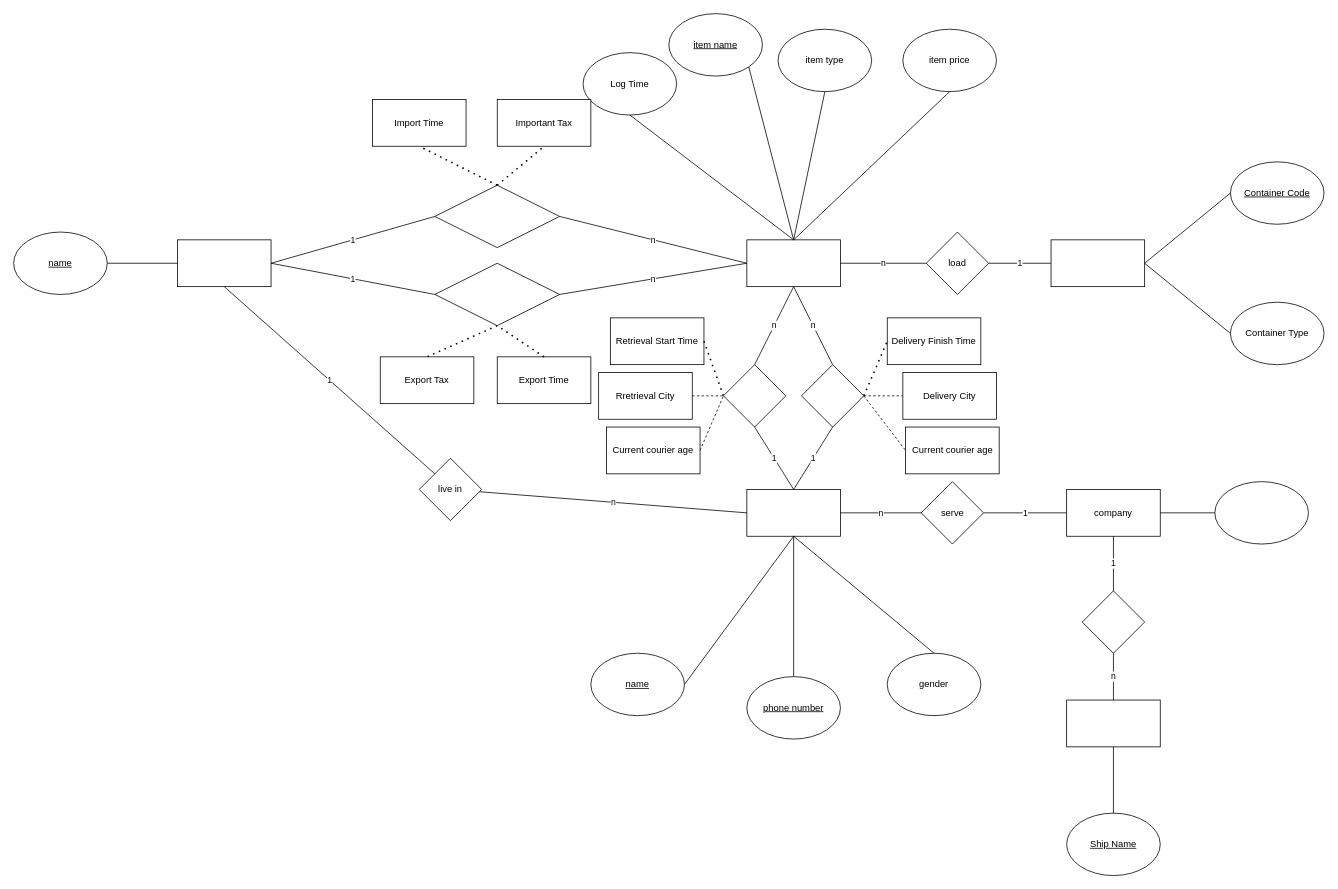
Image size: 1338x889. Some labels were removed from this diagram. The shapes that lost their labels are listed below. From the top down, each one's box as (x1, y1, x2, y2) in pixels, then its label:
(434, 184, 560, 248): import in
(177, 239, 271, 287): City
(746, 239, 840, 287): item
(1050, 239, 1145, 287): containers
(434, 262, 560, 326): export in
(723, 364, 786, 427): retrieval by
(801, 364, 864, 427): deliver by
(746, 489, 840, 536): courier
(1214, 481, 1308, 544): Company Name
(1081, 590, 1145, 653): own
(1066, 699, 1160, 747): ship
